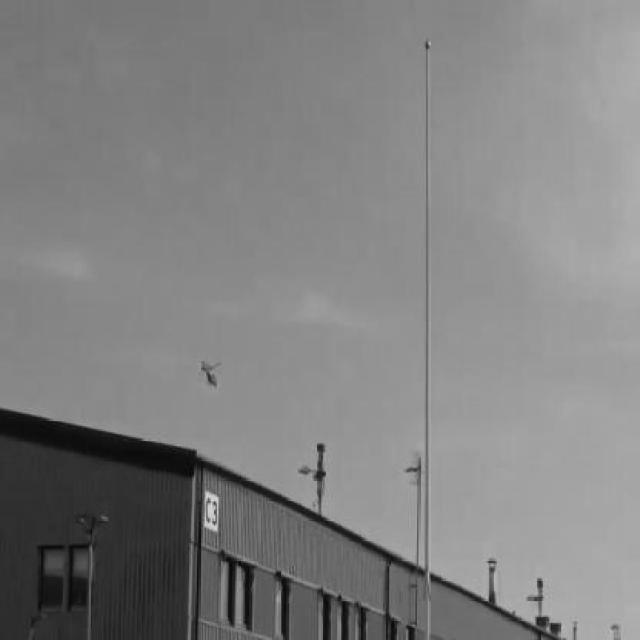helikopter: (194, 352, 228, 398)
